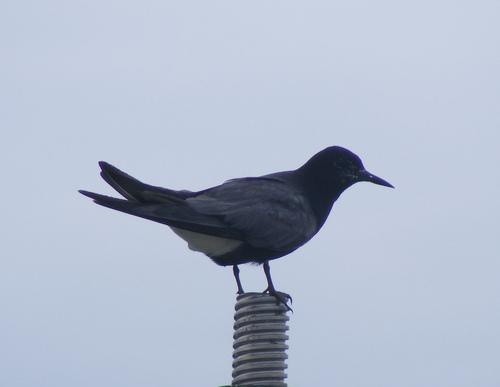bird: (75, 142, 397, 305)
